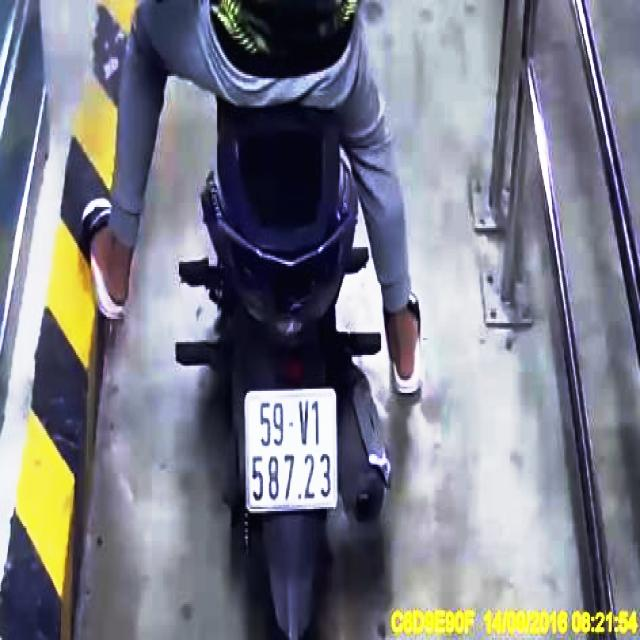license_plate: (247, 392, 337, 510)
